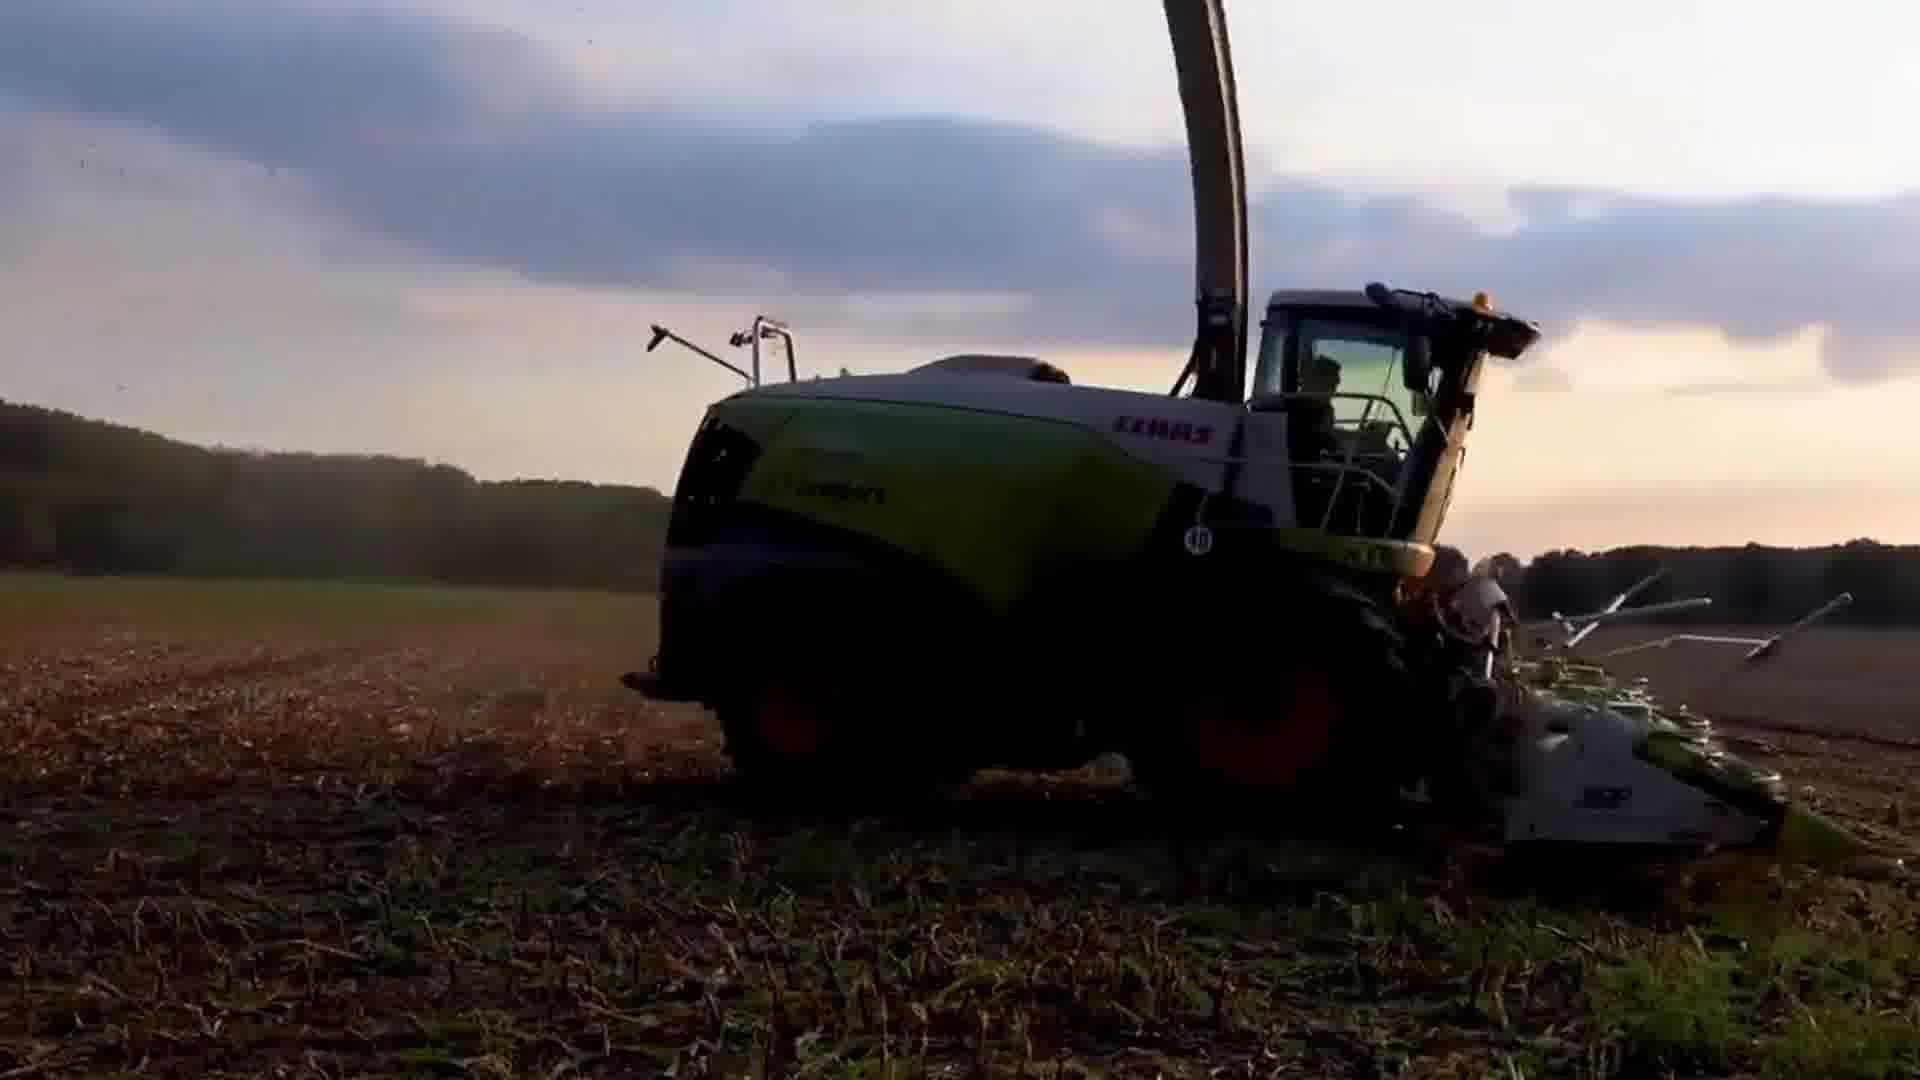combine harvester: (615, 0, 1920, 911)
